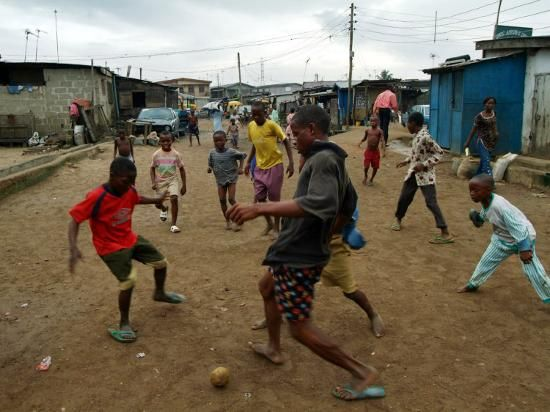Person: (241, 104, 391, 402), (58, 155, 193, 344), (452, 174, 550, 310), (394, 106, 454, 249), (143, 128, 194, 236), (201, 132, 251, 237)
